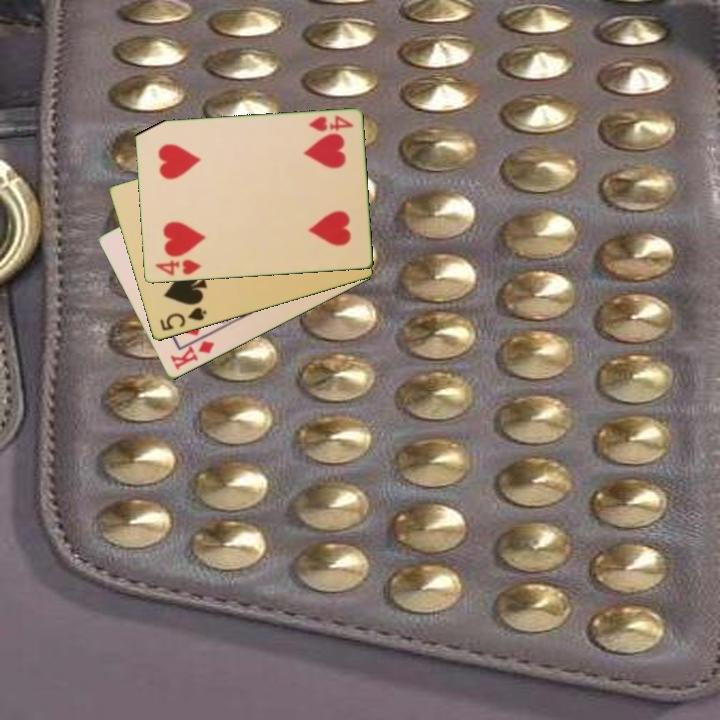4h: (151, 256, 204, 279), (305, 112, 356, 135)
5s: (156, 304, 209, 334)
Kd: (167, 331, 217, 373)
